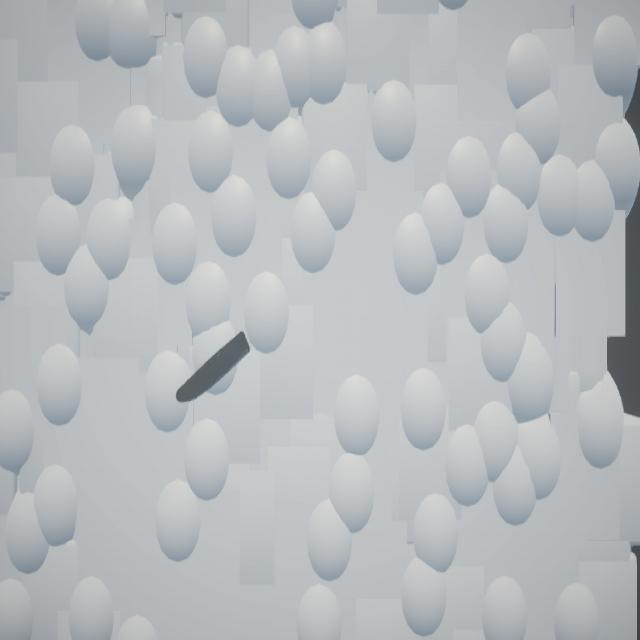top_knife: (176, 332, 251, 404)
